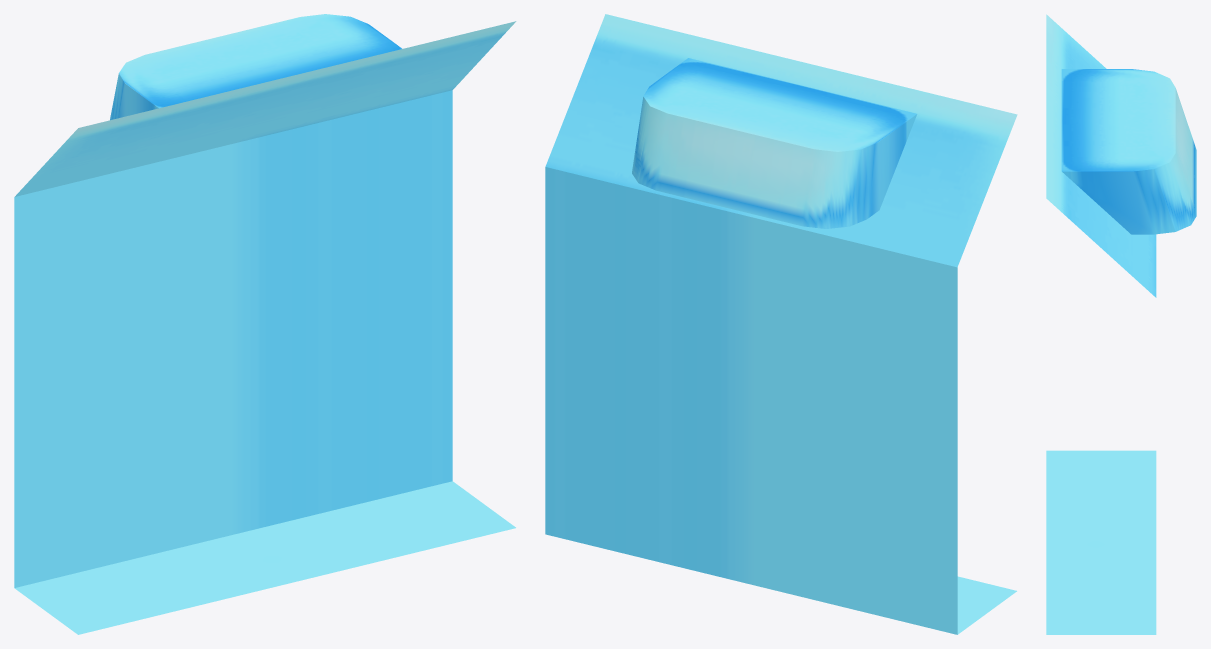
Rendered from Tab_Top.glb.
The picture shows the model from 3 angles, left to right: view 1: azimuth 30°, elevation 25°; view 2: azimuth 150°, elevation 25°; view 3: azimuth 270°, elevation 25°; orthographic projection. The views are drawn at different scales.
Visible parts, largest first — view 1: Tab_Top; view 2: Tab_Top; view 3: Tab_Top.
Part boxes in pixels (x1,y1,x2,y2): Tab_Top: (14,14,516,634); Tab_Top: (545,14,1017,634); Tab_Top: (1046,14,1196,634).
Bounding box in the file's own units: 0.5427 × 0.5995 × 0.1874.
1 material, 1 textured.
